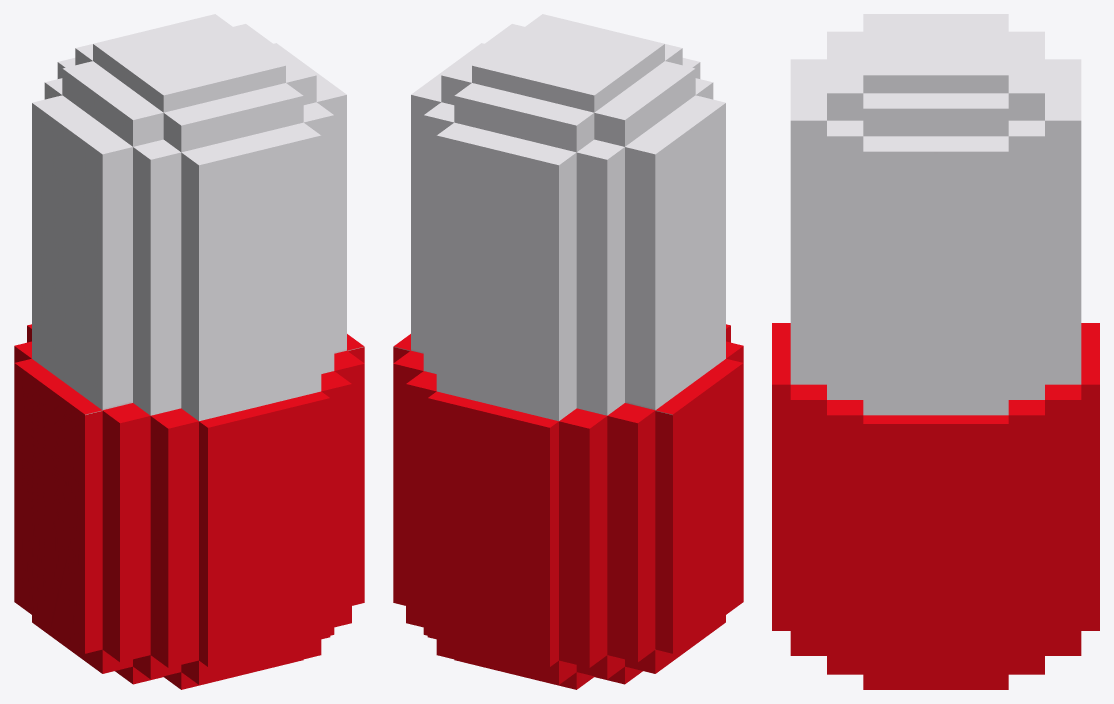
Rendered from pill_pellet_2.fbx.
3 views of the same model, side by side, from view 1: azimuth 30°, elevation 25°; view 2: azimuth 150°, elevation 25°; view 3: azimuth 270°, elevation 25° (orthographic). The views are drawn at different scales.
Parts seen in each view (by area): view 1: food_3_2; view 2: food_3_2; view 3: food_3_2.
Part boxes in pixels (bbox=[...]): food_3_2: bbox=[14, 14, 364, 689]; food_3_2: bbox=[393, 14, 743, 689]; food_3_2: bbox=[772, 14, 1099, 689].
Bounding box in the file's own units: 114 × 227 × 113.
1 material, 1 textured.
